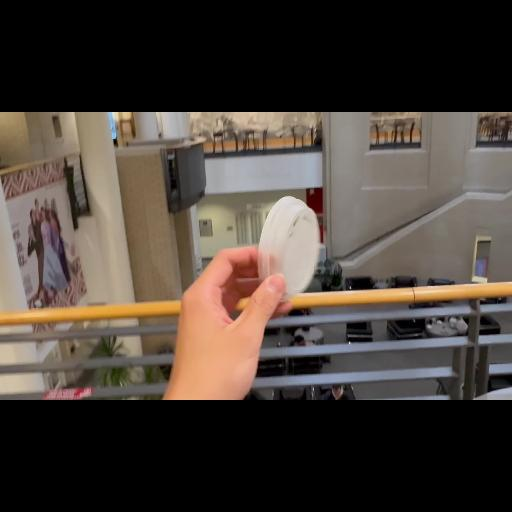lp_cup_lids: (252, 194, 322, 300)
